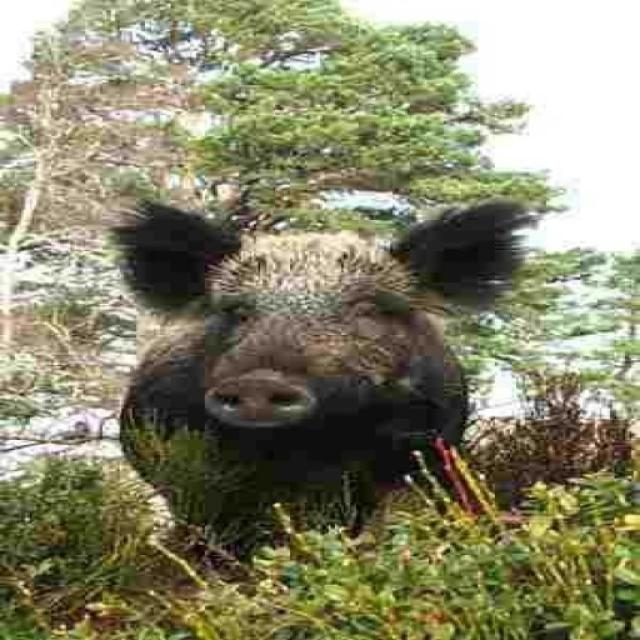pig: (118, 163, 507, 589)
